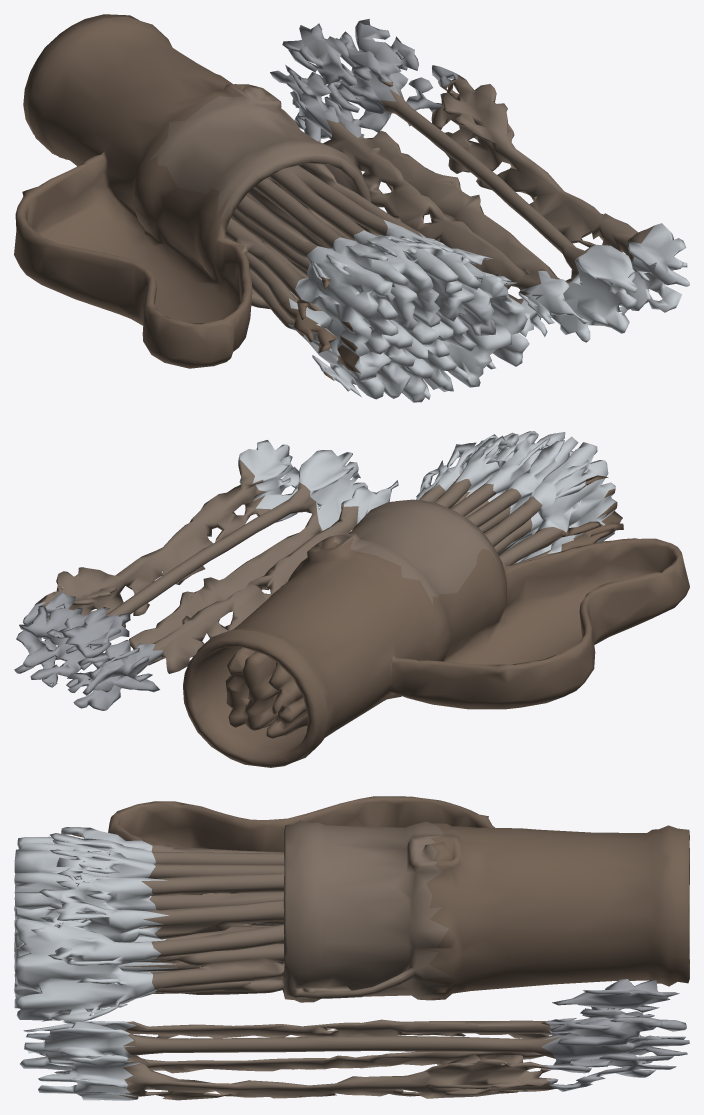
Rendered from flechas.glb.
3 renders of one model, top to bottom at view 1: azimuth 30°, elevation 25°; view 2: azimuth 150°, elevation 25°; view 3: azimuth 270°, elevation 25°, orthographic. The views are drawn at different scales.
Visible parts, largest first — view 1: tmpttnf5sa6.ply; view 2: tmpttnf5sa6.ply; view 3: tmpttnf5sa6.ply.
Boxes of the visible parts, box(x1,y1,x2,y2) form: tmpttnf5sa6.ply: box(14, 14, 689, 402); tmpttnf5sa6.ply: box(14, 431, 689, 767); tmpttnf5sa6.ply: box(14, 796, 689, 1100).
Bounding box in the file's own units: 1.78 × 0.5481 × 1.96.
